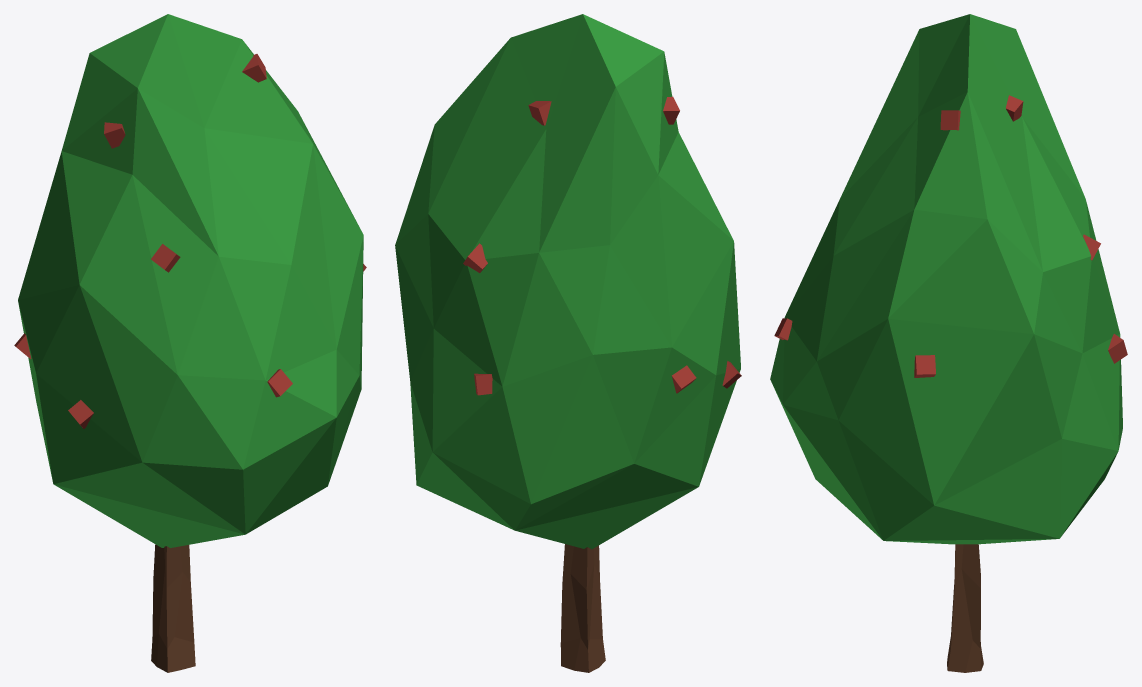
File: Tree_23_Green.fbx
3 views of the same model, side by side, from view 1: azimuth 30°, elevation 25°; view 2: azimuth 150°, elevation 25°; view 3: azimuth 270°, elevation 25° (orthographic).
Visible parts, largest first — view 1: Tree_23_Green_Part_1, Tree_23_Green_Part_2, Tree_23_Green_Part_3; view 2: Tree_23_Green_Part_1, Tree_23_Green_Part_2, Tree_23_Green_Part_3; view 3: Tree_23_Green_Part_1, Tree_23_Green_Part_2, Tree_23_Green_Part_3.
Part boxes in pixels (<box>): Tree_23_Green_Part_1: <box>18,14,363,547</box>; Tree_23_Green_Part_2: <box>151,544,195,672</box>; Tree_23_Green_Part_3: <box>14,54,366,428</box>; Tree_23_Green_Part_1: <box>395,14,740,549</box>; Tree_23_Green_Part_2: <box>560,544,605,672</box>; Tree_23_Green_Part_3: <box>463,96,741,395</box>; Tree_23_Green_Part_1: <box>770,14,1122,544</box>; Tree_23_Green_Part_2: <box>947,544,983,672</box>; Tree_23_Green_Part_3: <box>774,95,1127,377</box>.
Size of the model in its own units: 398 by 799 by 399.
